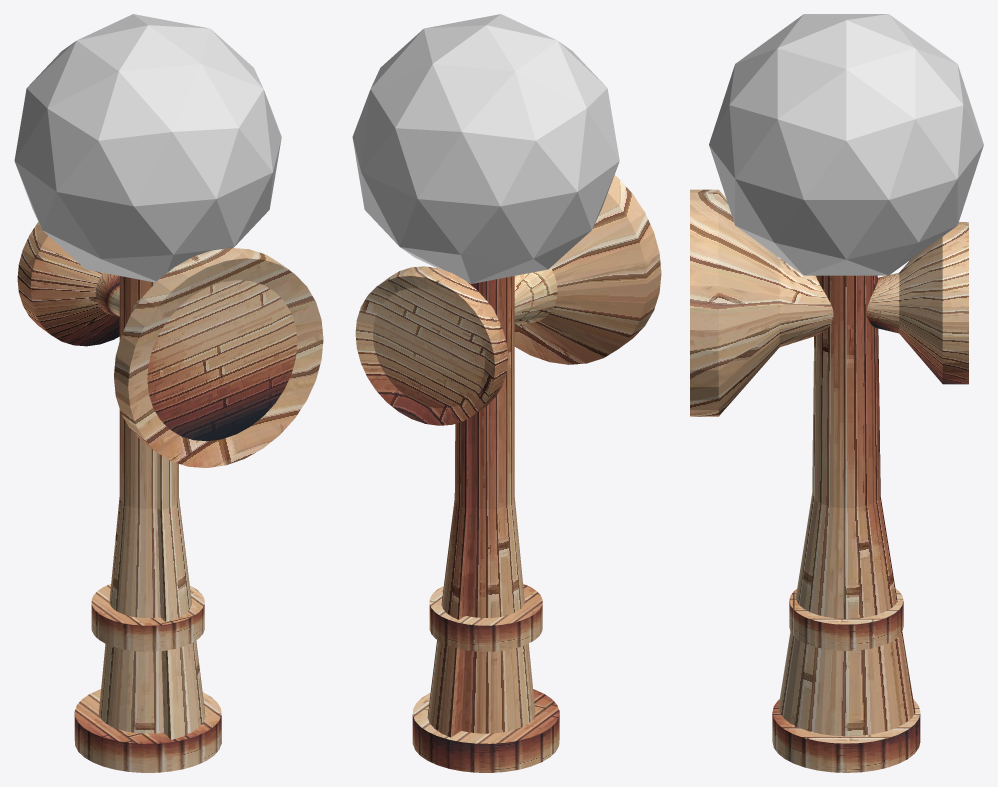
File: Kendama.glb
The picture shows the model from 3 angles, left to right: view 1: azimuth 30°, elevation 25°; view 2: azimuth 150°, elevation 25°; view 3: azimuth 270°, elevation 25°; orthographic projection.
Parts seen in each view (by area): view 1: Icosphere, Cylinder.001, Cylinder, Cylinder.002, Cylinder.003; view 2: Icosphere, Cylinder.001, Cylinder, Cylinder.002, Cylinder.003; view 3: Icosphere, Cylinder, Cylinder.001, Cylinder.002, Cylinder.003.
Part boxes in pixels (<box>): Icosphere: <box>14,14,281,282</box>; Cylinder.001: <box>17,222,323,467</box>; Cylinder: <box>99,276,205,739</box>; Cylinder.002: <box>74,689,221,772</box>; Cylinder.003: <box>91,584,204,651</box>; Icosphere: <box>352,14,619,283</box>; Cylinder.001: <box>355,175,661,425</box>; Cylinder: <box>427,276,535,737</box>; Cylinder.002: <box>412,689,559,772</box>; Cylinder.003: <box>429,583,542,651</box>; Icosphere: <box>709,14,983,275</box>; Cylinder: <box>778,275,915,736</box>; Cylinder.001: <box>690,189,968,416</box>; Cylinder.002: <box>772,699,920,772</box>; Cylinder.003: <box>789,589,903,650</box>.
Bounding box in the file's own units: 0.3038 × 0.9245 × 0.3414.
5 materials, 4 textured.
